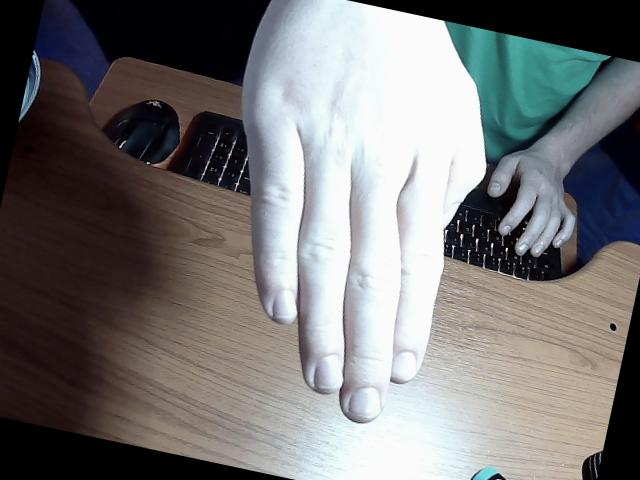paper: (243, 0, 640, 423)
